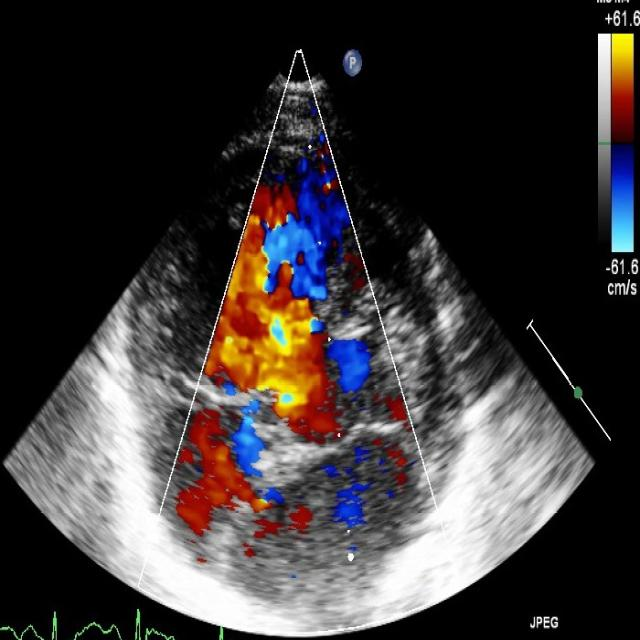VSDType2: (206, 202, 324, 400)
